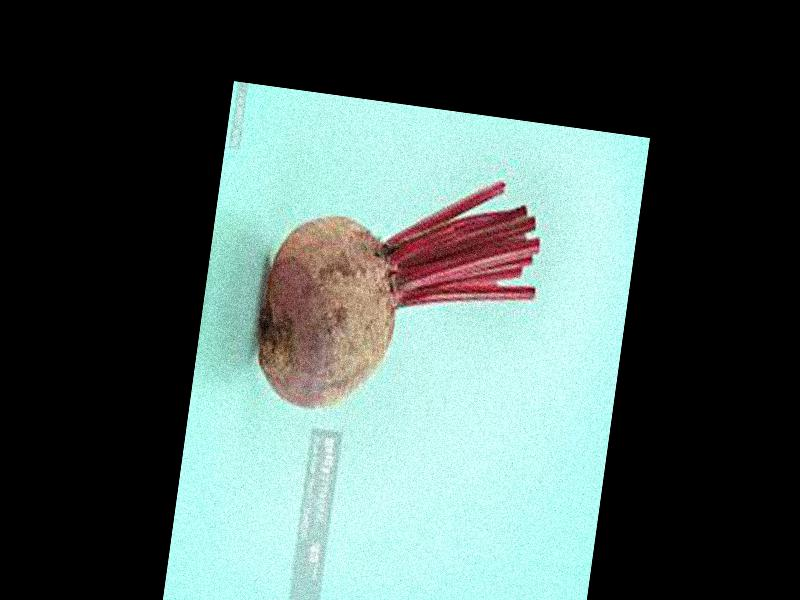Beet: (248, 153, 546, 436)
